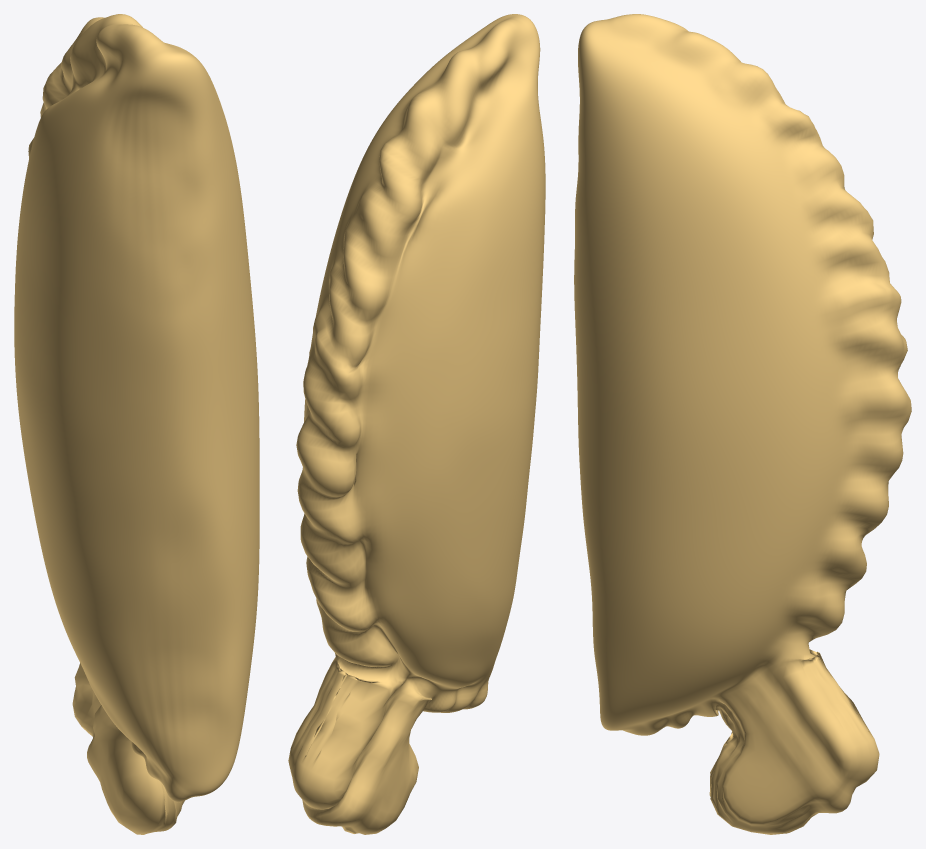
The model's file is empanada_012.fbx.
3 views of the same model, side by side, from view 1: azimuth 30°, elevation 25°; view 2: azimuth 150°, elevation 25°; view 3: azimuth 270°, elevation 25° (orthographic). The views are drawn at different scales.
Parts seen in each view (by area): view 1: Mesh.005; view 2: Mesh.005; view 3: Mesh.005.
Part boxes in pixels (x1,y1,x2,y2): Mesh.005: (14,14,259,834); Mesh.005: (288,14,545,834); Mesh.005: (574,14,911,834).
Bounding box in the file's own units: 110 × 452 × 176.
